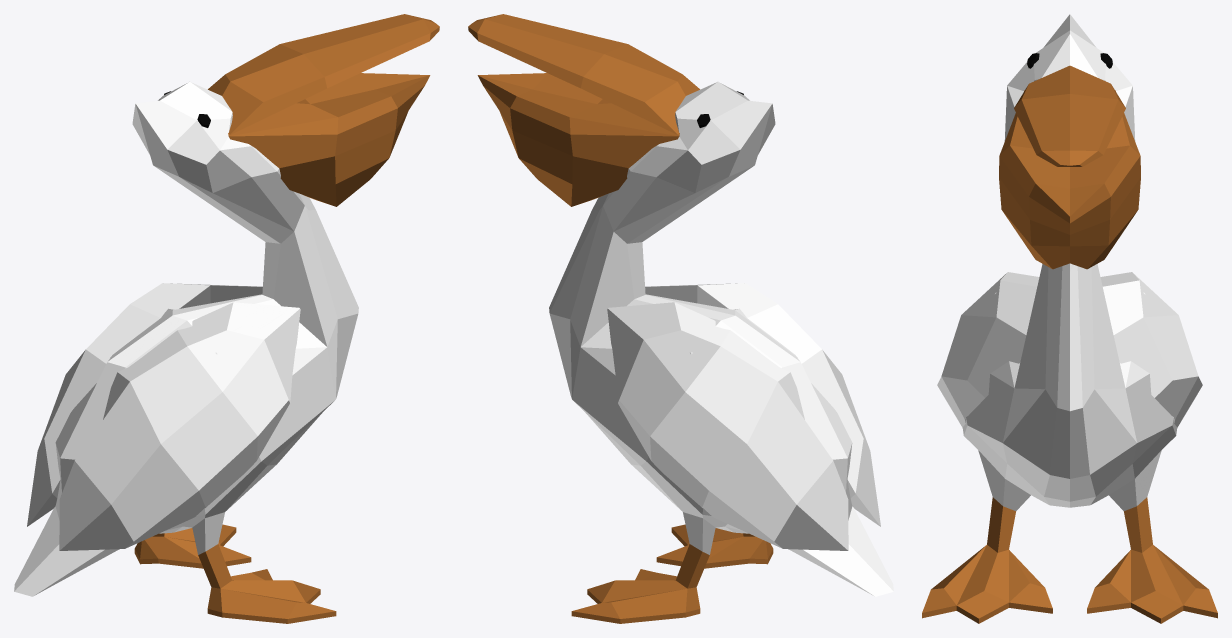
File: bird2.fbx
3 views of the same model, side by side, from view 1: azimuth 30°, elevation 25°; view 2: azimuth 150°, elevation 25°; view 3: azimuth 270°, elevation 25° (orthographic). The views are drawn at different scales.
Parts seen in each view (by area): view 1: Bird2; view 2: Bird2; view 3: Bird2.
Part boxes in pixels (bbox=[...]): Bird2: bbox=[14, 14, 439, 623]; Bird2: bbox=[468, 14, 893, 623]; Bird2: bbox=[922, 14, 1217, 623].
Bounding box in the file's own units: 115 × 132 × 64.36.
